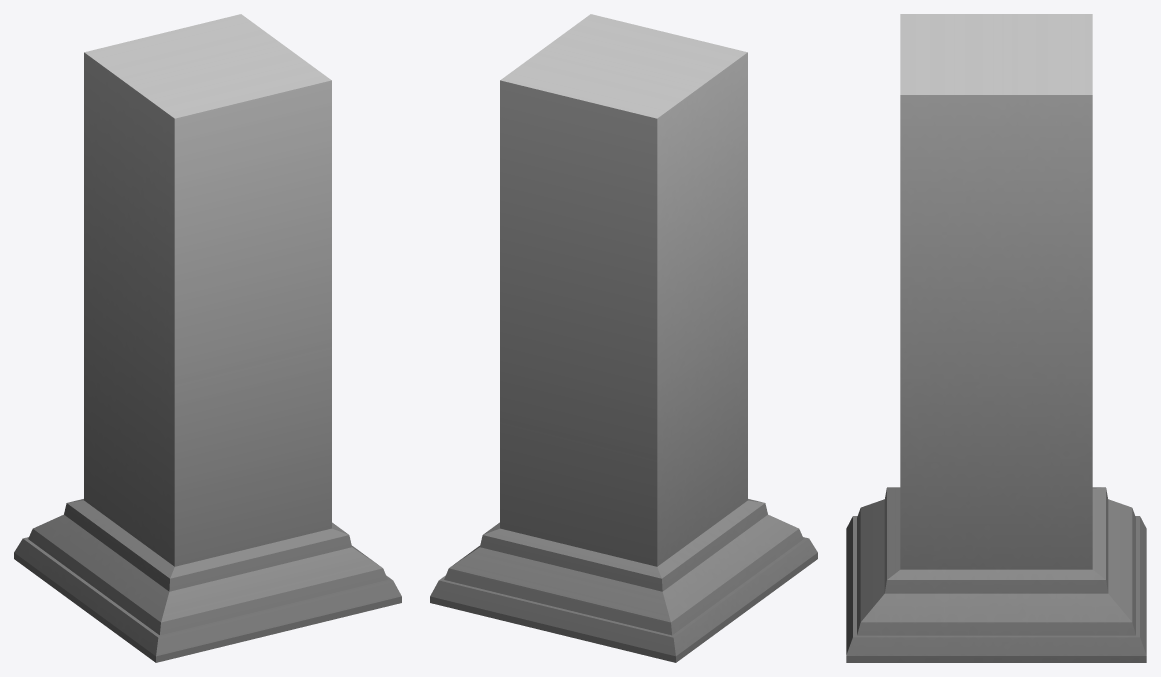
The model's file is Mod_Pillar_02.fbx.
The picture shows the model from 3 angles, left to right: view 1: azimuth 30°, elevation 25°; view 2: azimuth 150°, elevation 25°; view 3: azimuth 270°, elevation 25°; orthographic projection. The views are drawn at different scales.
Visible parts, largest first — view 1: Mod_Pillar_02; view 2: Mod_Pillar_02; view 3: Mod_Pillar_02.
Boxes of the visible parts, left/top/right/bottom form: Mod_Pillar_02: left=14, top=14, right=401, bottom=662; Mod_Pillar_02: left=430, top=14, right=817, bottom=662; Mod_Pillar_02: left=846, top=14, right=1146, bottom=662.
Size of the model in its own units: 100 by 200 by 100.
